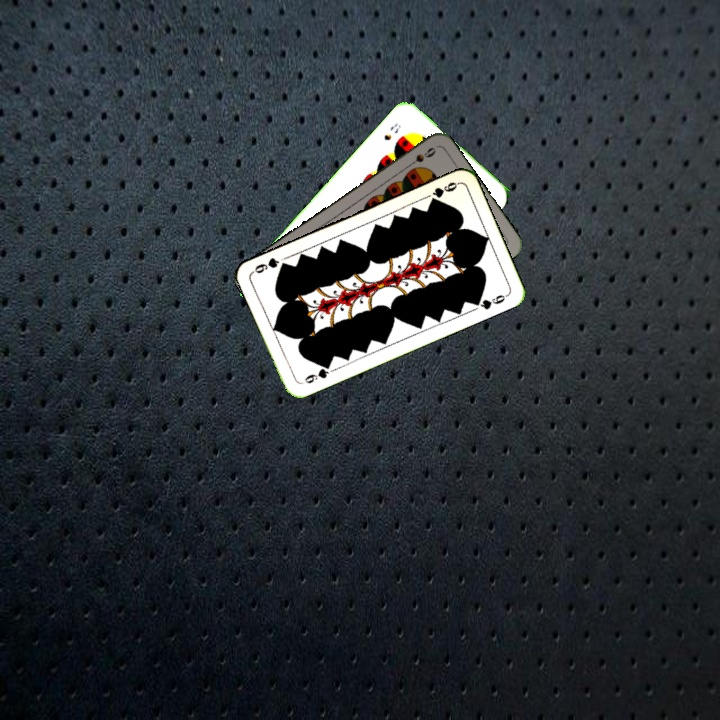G9: (425, 178, 462, 206), (298, 360, 334, 387)
S8: (380, 119, 403, 143)
S9: (402, 143, 439, 171)
